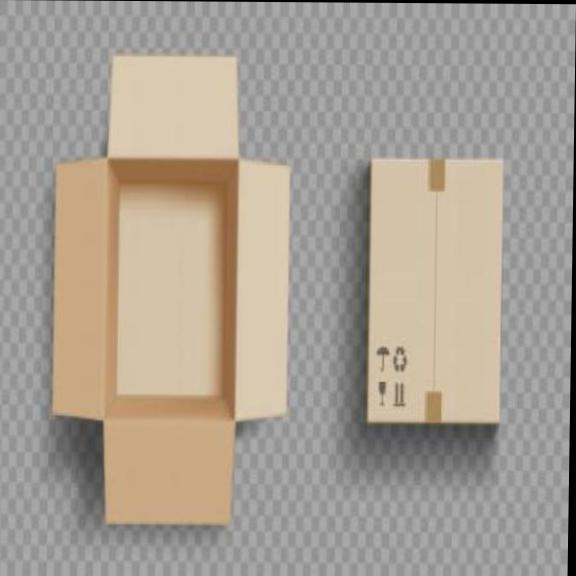Kertas: (105, 155, 236, 520), (366, 159, 503, 424)
